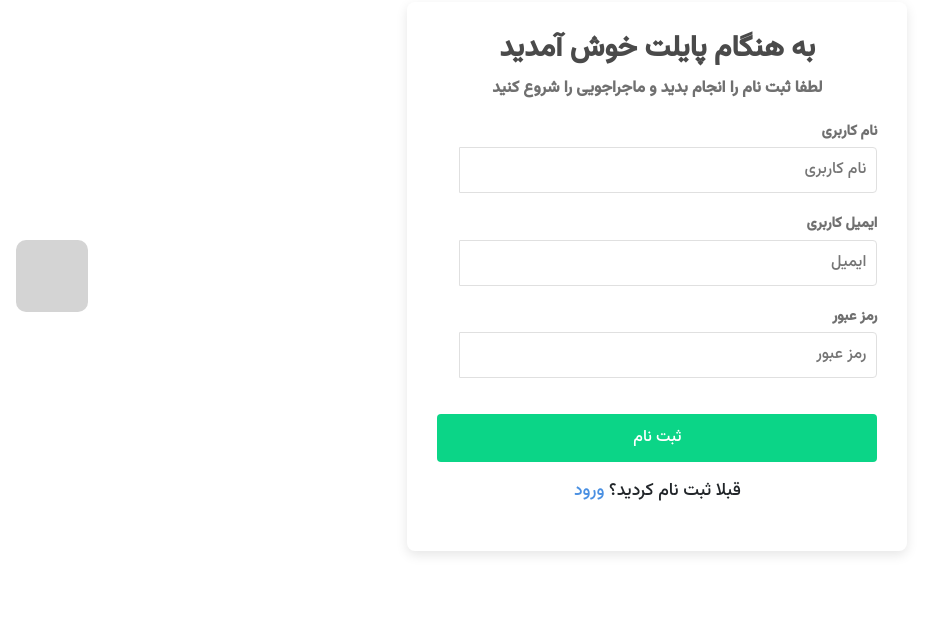
SignUpPage › shows validation errors when fields are empty
Click the button "ثبت نام".
click(657, 438)  # box [437,414,877,462]
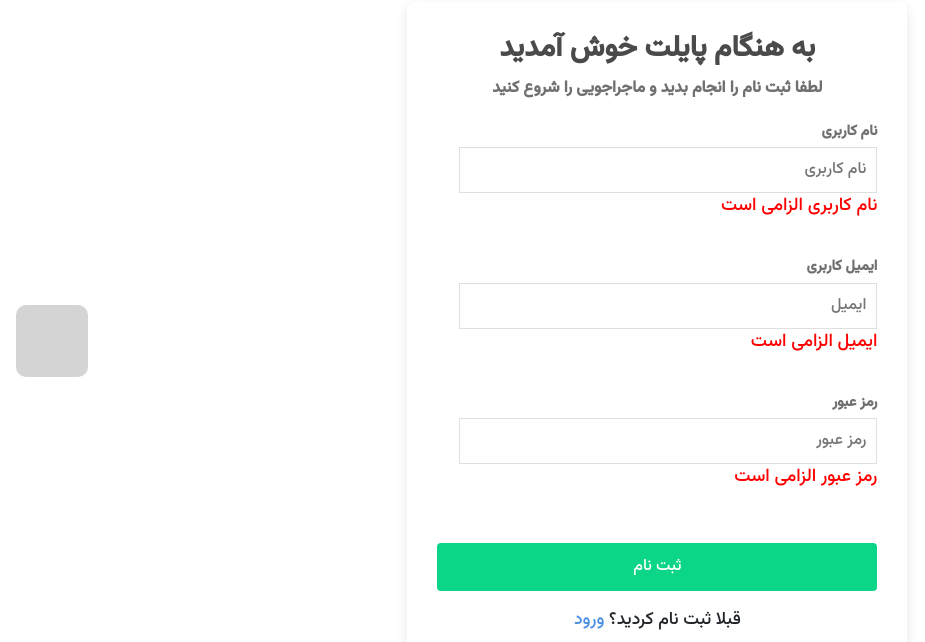
Check: the text "نام کاربری الزامی است" is shown, box [721,193,877,220]
Check: the text "ایمیل الزامی است" is shown, box [751,329,877,356]
Check: the text "رمز عبور الزامی است" is shown, box [734,464,877,491]
